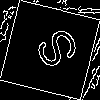S: (25, 25, 82, 77)
